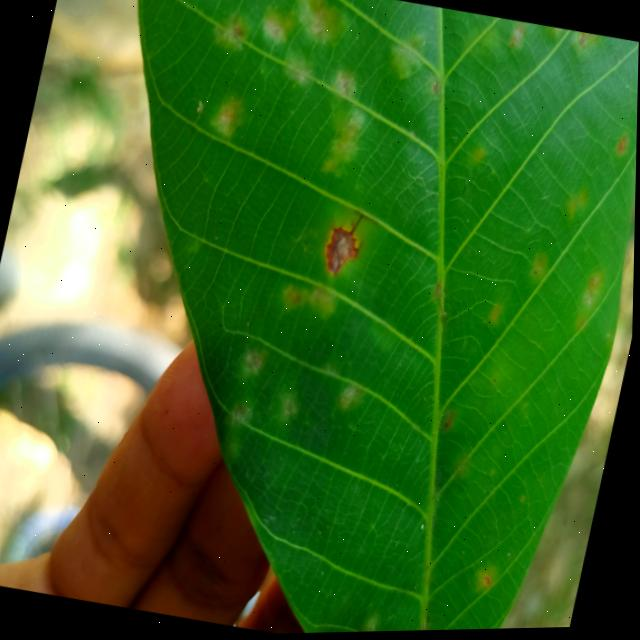Corynespora: (319, 207, 376, 283)
